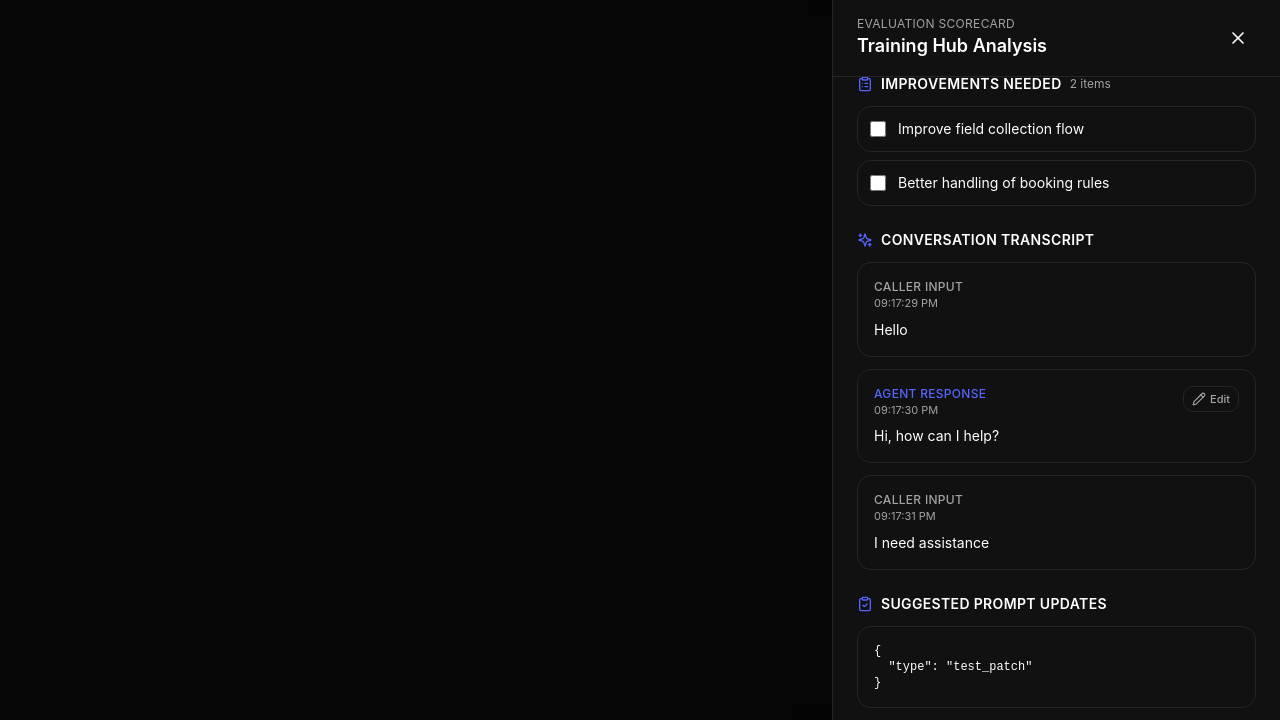
Test case: EvaluationScorecard › Edit Workflow › should close edit mode when cancel clicked
(page scrolled)
Click the button "Edit" at (1211, 399), box top-left (1183, 386), bottom-right (1239, 412)
(page scrolled)
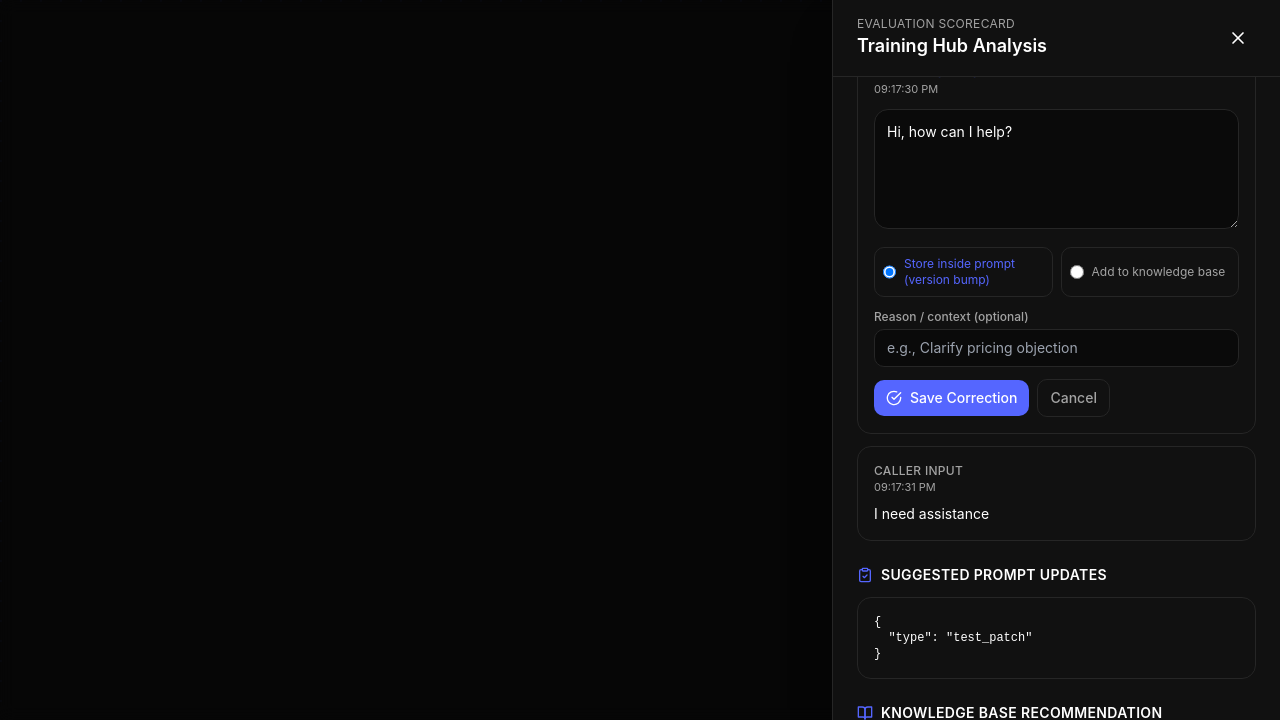
Click the button "Cancel" at (1074, 398), box top-left (1038, 379), bottom-right (1110, 417)
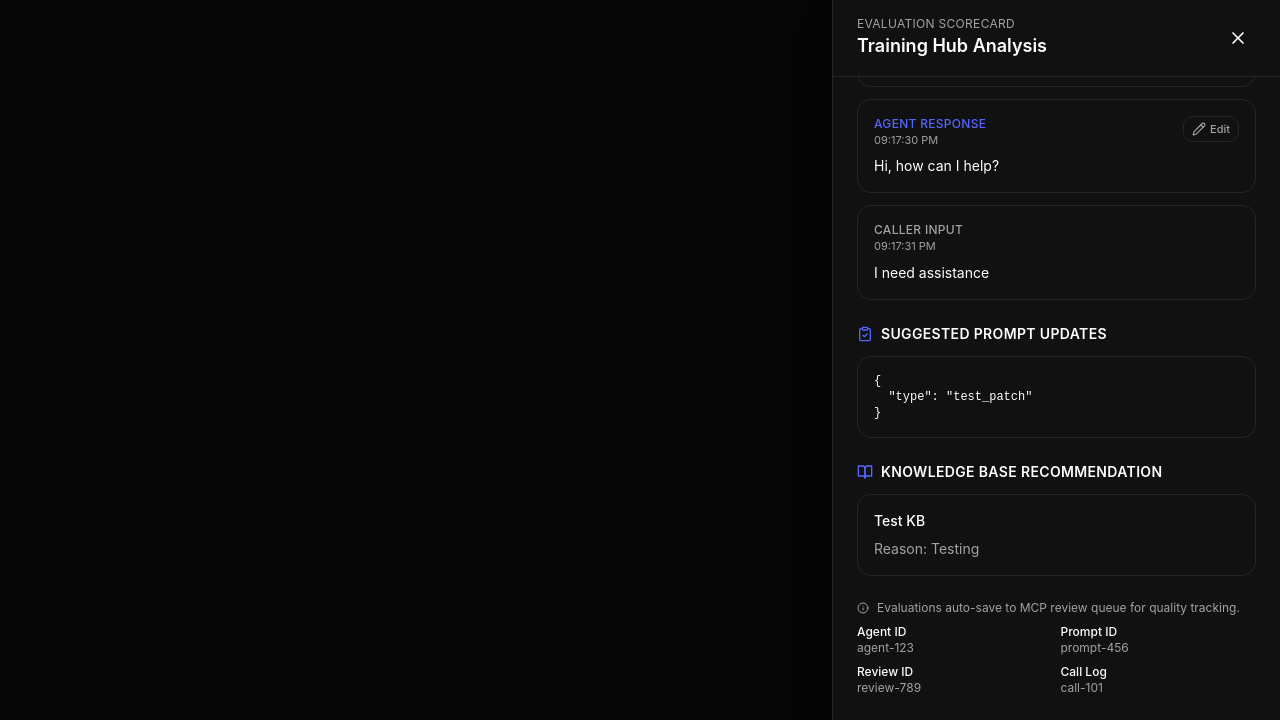
Now the field is gone
